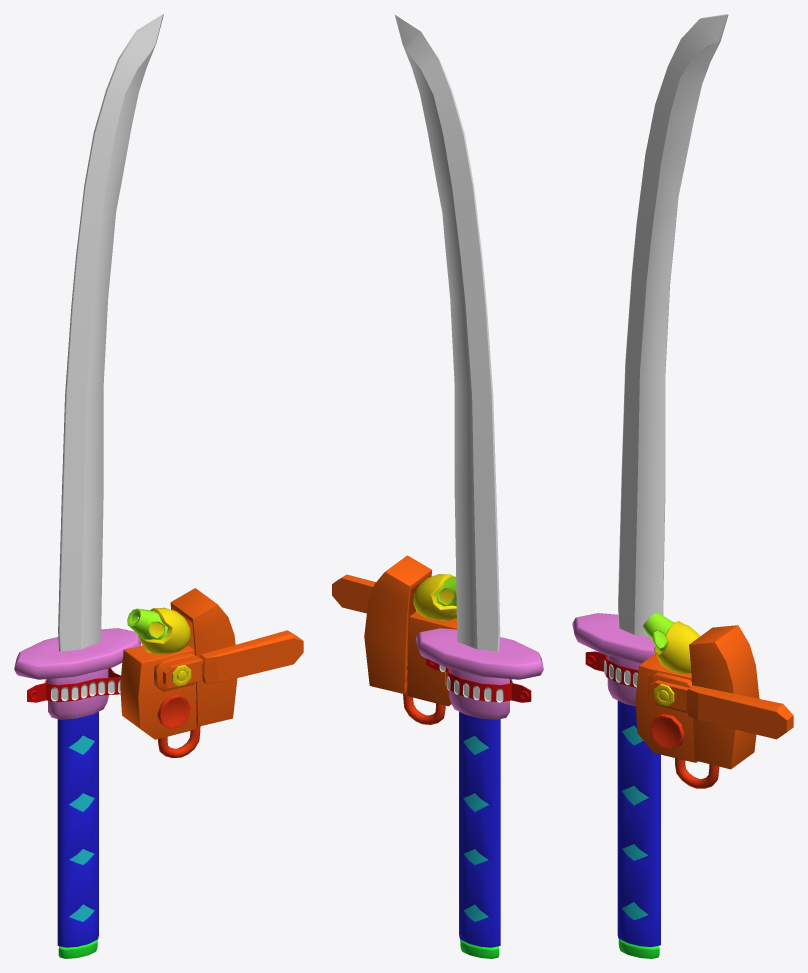
Rendered from MoralesHelena_FMA_E2_UVS.fbx.
3 renders of one model, left to right at view 1: azimuth 30°, elevation 25°; view 2: azimuth 150°, elevation 25°; view 3: azimuth 330°, elevation 25°, orthographic. The views are drawn at different scales.
Visible parts, largest first — view 1: Palanca, HP_Floatters; view 2: Palanca, HP_Floatters; view 3: Palanca.
Boxes of the visible parts, x1=… form: Palanca: x1=14, y1=14, x2=303, y2=958; HP_Floatters: x1=44, y1=671, x2=120, y2=701; Palanca: x1=332, y1=14, x2=543, y2=958; HP_Floatters: x1=439, y1=665, x2=513, y2=702; Palanca: x1=572, y1=14, x2=793, y2=958.
Size of the model in its own units: 28.47 by 101 by 11.67.
